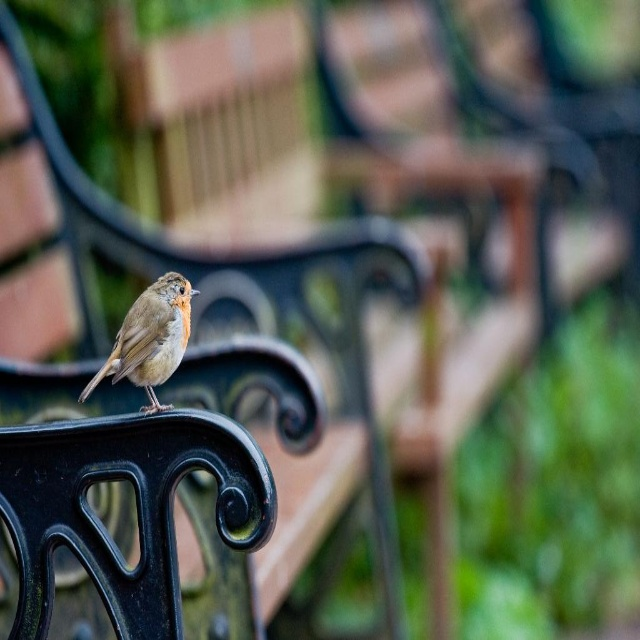Sparrow: (74, 272, 204, 419)
